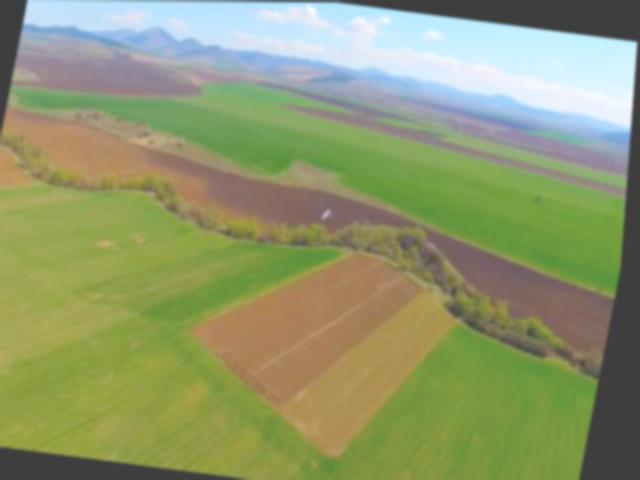uav: (320, 201, 340, 224)
